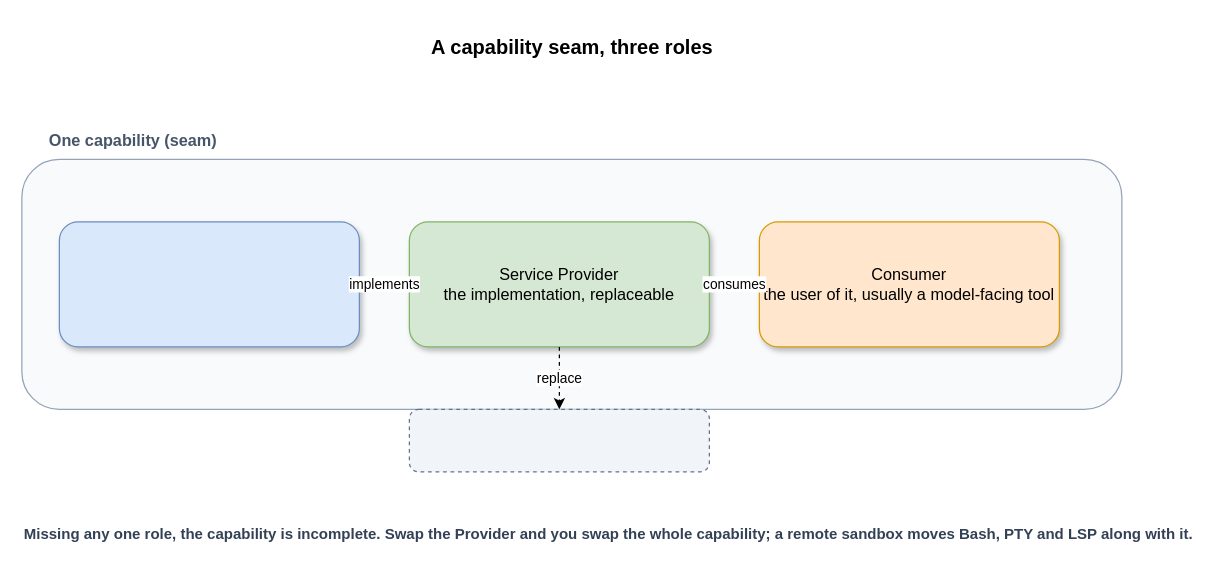
Image size: 1215x580. Some labels were removed from this diagram. The centre of each missing label's shape, as x and y in pixels:
"new Provider (e.g. a remote sandbox)" goes at pixel 558 440.
"Service Definition the interface, what the capability looks like" goes at pixel 210 286.
